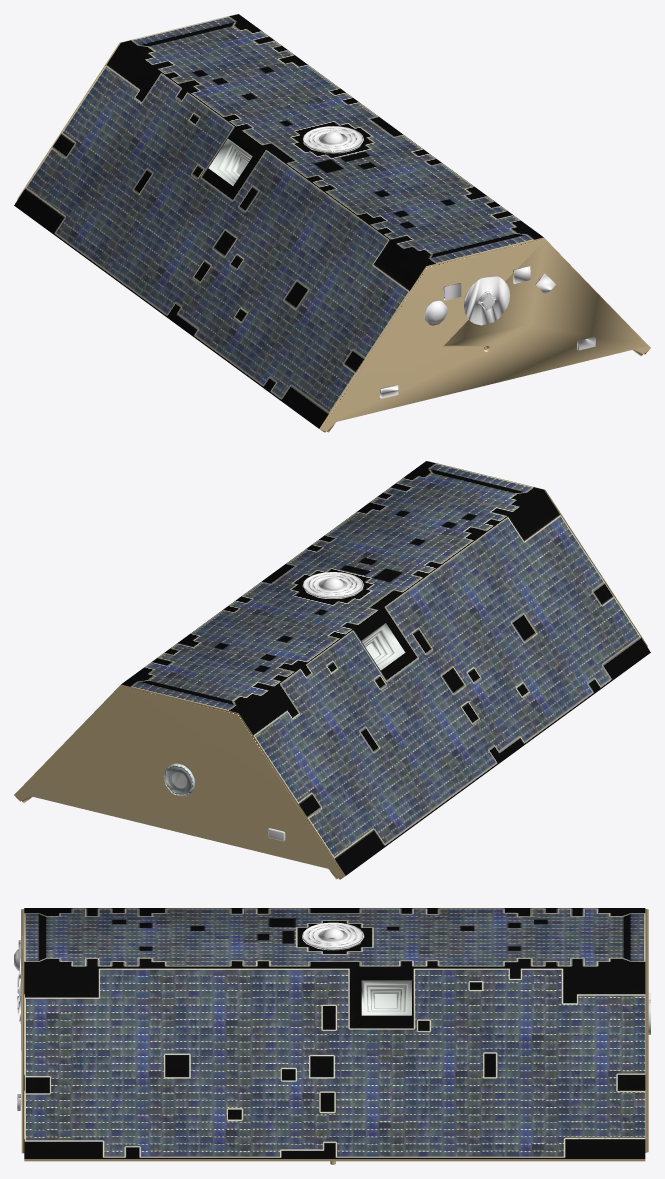
Rendered from grace.glb.
3 views of the same model, one above another, from view 1: azimuth 30°, elevation 25°; view 2: azimuth 150°, elevation 25°; view 3: azimuth 270°, elevation 25° (orthographic).
Parts seen in each view (by area): view 1: Mesh .006, Mesh, Mesh .004; view 2: Mesh .006, Mesh; view 3: Mesh .006, Mesh.
Boxes of the visible parts, x1,y1,x2,y2 form: Mesh .006: [14, 14, 543, 428]; Mesh: [17, 14, 650, 432]; Mesh .004: [379, 266, 595, 398]; Mesh .006: [121, 461, 650, 875]; Mesh: [14, 461, 647, 879]; Mesh .006: [24, 908, 650, 1158]; Mesh: [14, 908, 648, 1161].
Size of the model in its own units: 4.81 by 3.19 by 7.86.
Materials: 5 (5 with a texture image).
